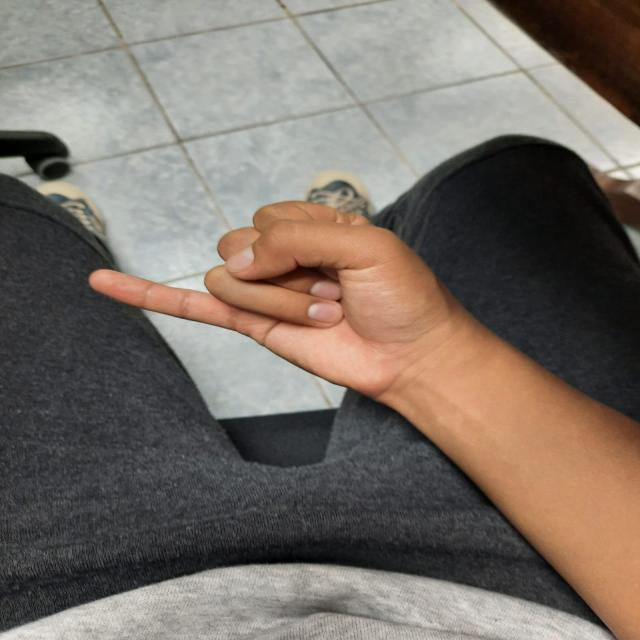Z: (42, 170, 448, 416)
